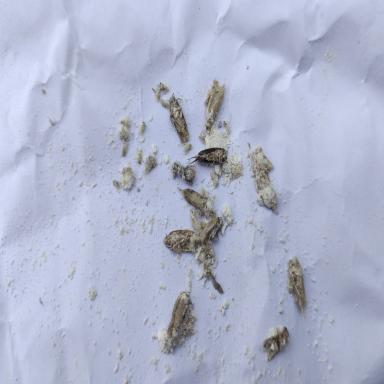pbw: (286, 256, 307, 322), (164, 289, 190, 342), (204, 79, 225, 134), (252, 162, 277, 207), (168, 92, 189, 145), (262, 326, 290, 362), (187, 144, 233, 165), (177, 186, 213, 212), (163, 228, 197, 254), (200, 216, 223, 243), (172, 160, 196, 184), (251, 150, 274, 170)
